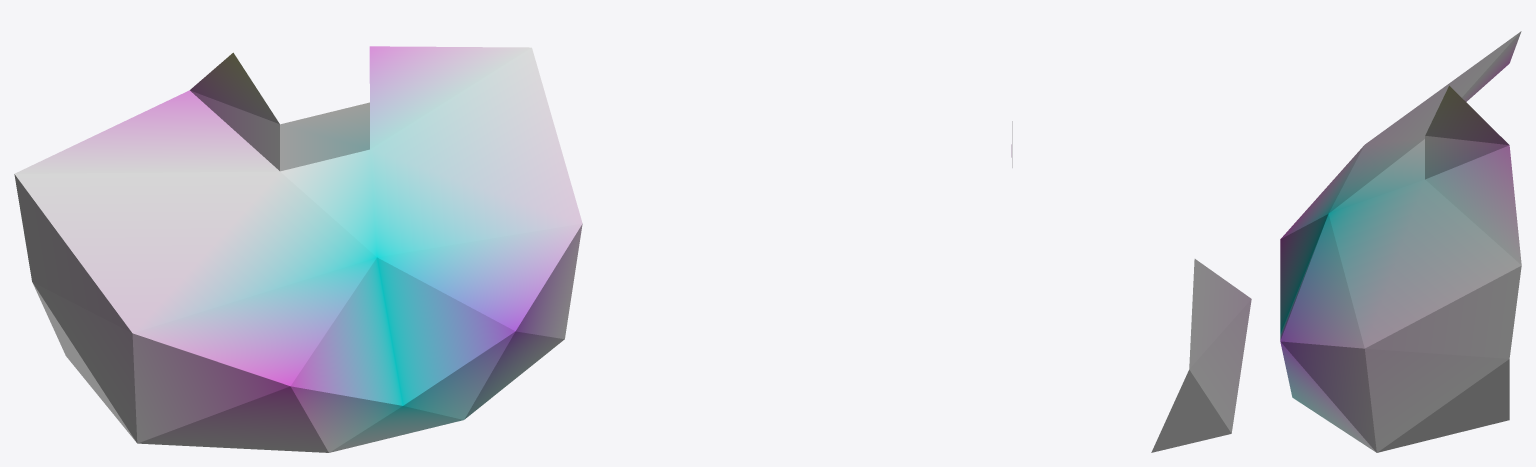
3 views of the same model, side by side, from view 1: azimuth 30°, elevation 25°; view 2: azimuth 150°, elevation 25°; view 3: azimuth 270°, elevation 25° (orthographic). The views are drawn at different scales.
Parts seen in each view (by area): view 1: model_1109; view 2: model_1109; view 3: model_1109.
Boxes of the visible parts, box(x1,y1,x2,y2) form: model_1109: box(14, 46, 582, 452); model_1109: box(1011, 121, 1251, 452); model_1109: box(1280, 31, 1521, 452).
Bounding box in the file's own units: 46 × 29 × 20.
